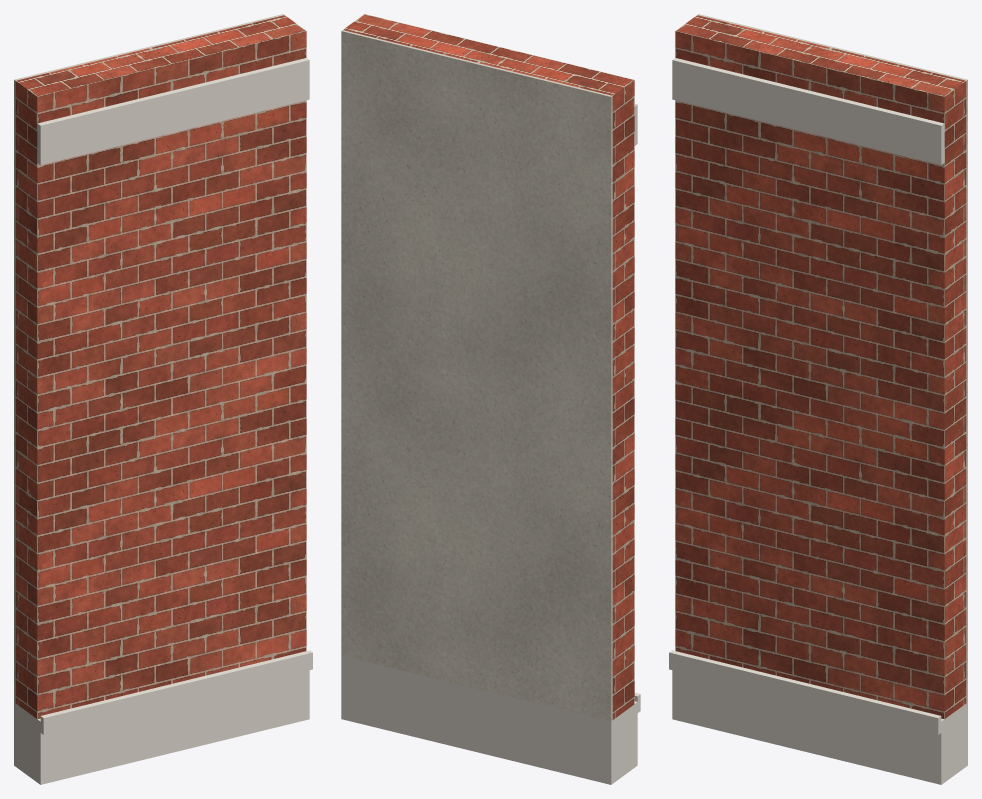
Rendered from wall_plain.glb.
3 views of the same model, side by side, from view 1: azimuth 30°, elevation 25°; view 2: azimuth 150°, elevation 25°; view 3: azimuth 330°, elevation 25° (orthographic).
Parts seen in each view (by area): view 1: wall_plain_brick, wall_plain_lime, wall_plain_plaster; view 2: wall_plain_plaster, wall_plain_brick, wall_plain_lime; view 3: wall_plain_brick, wall_plain_lime, wall_plain_plaster.
Part boxes in pixels (left/top/right/bottom): wall_plain_brick: left=15, top=15, right=306, bottom=719; wall_plain_lime: left=14, top=58, right=312, bottom=784; wall_plain_plaster: left=14, top=14, right=284, bottom=702; wall_plain_plaster: left=341, top=30, right=612, bottom=721; wall_plain_brick: left=343, top=14, right=634, bottom=719; wall_plain_lime: left=341, top=104, right=640, bottom=784; wall_plain_brick: left=675, top=15, right=966, bottom=719; wall_plain_lime: left=669, top=58, right=967, bottom=784; wall_plain_plaster: left=697, top=14, right=967, bottom=702.
Size of the model in its own units: 2 by 4.87 by 0.38.
Materials: 3 (2 with a texture image).
